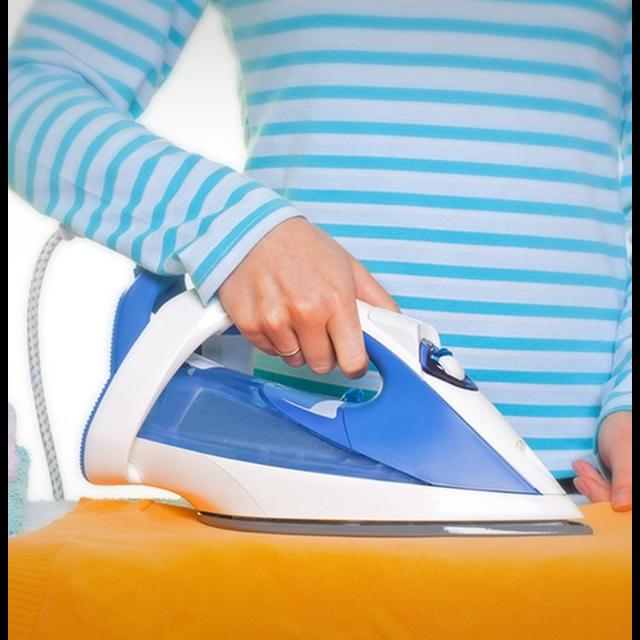Clothes-Iron: (113, 189, 500, 573)
